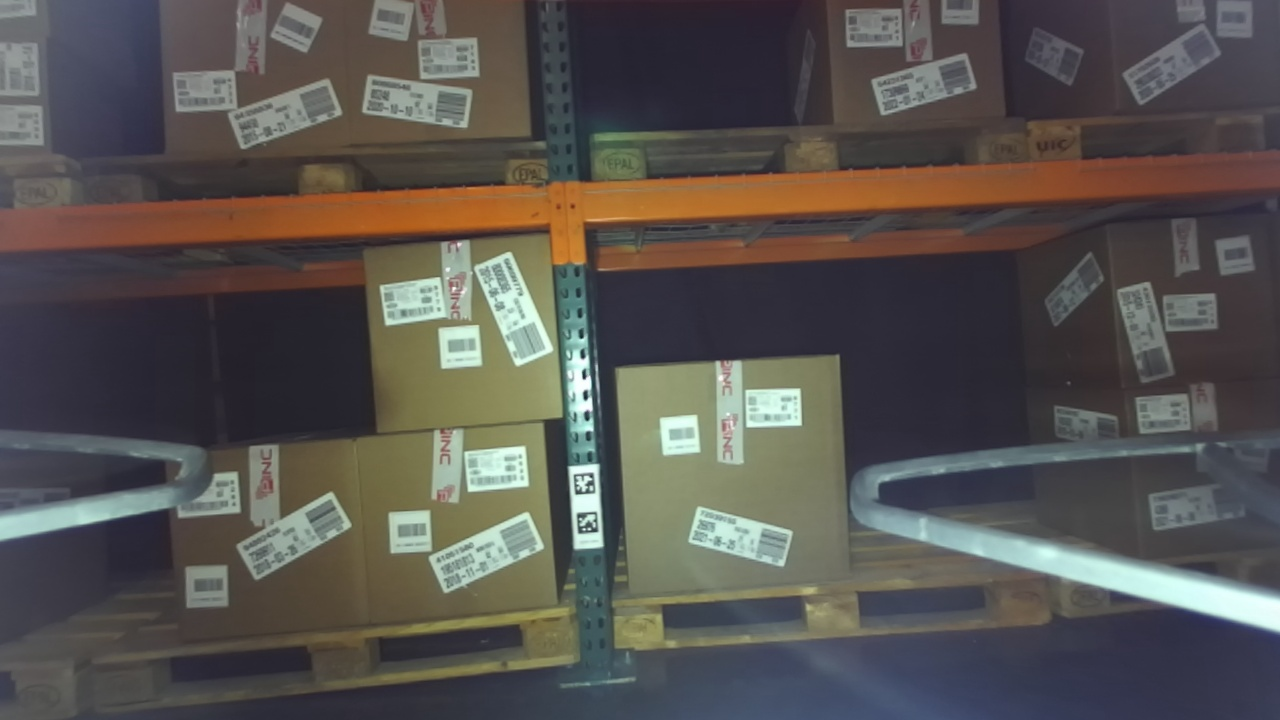box: (588, 339, 877, 606), (140, 431, 403, 664), (343, 412, 590, 638), (335, 224, 572, 429), (1080, 203, 1280, 409), (151, 1, 364, 170), (315, 3, 544, 158), (799, 1, 1027, 146)
